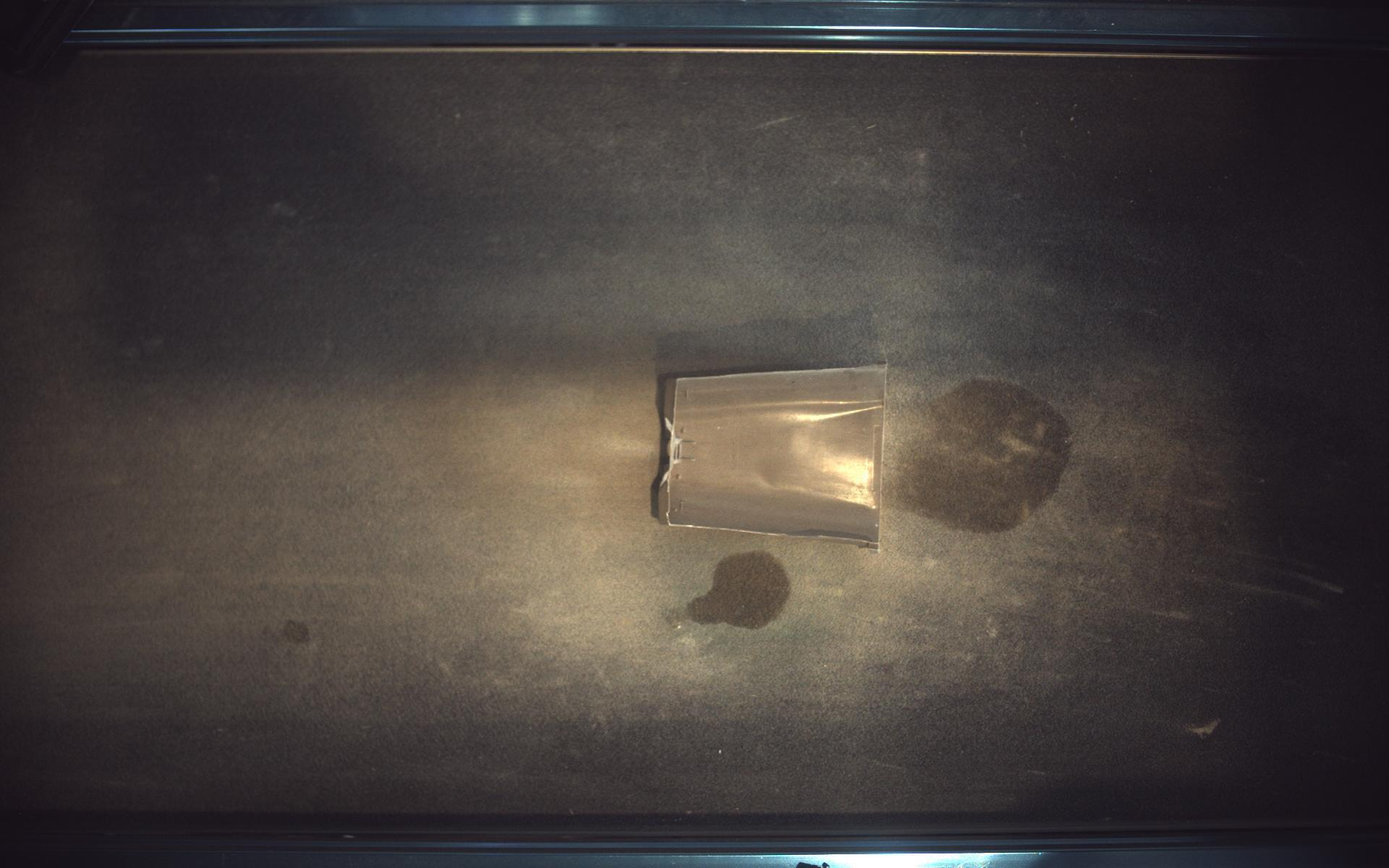general_w: (660, 364, 888, 550)
